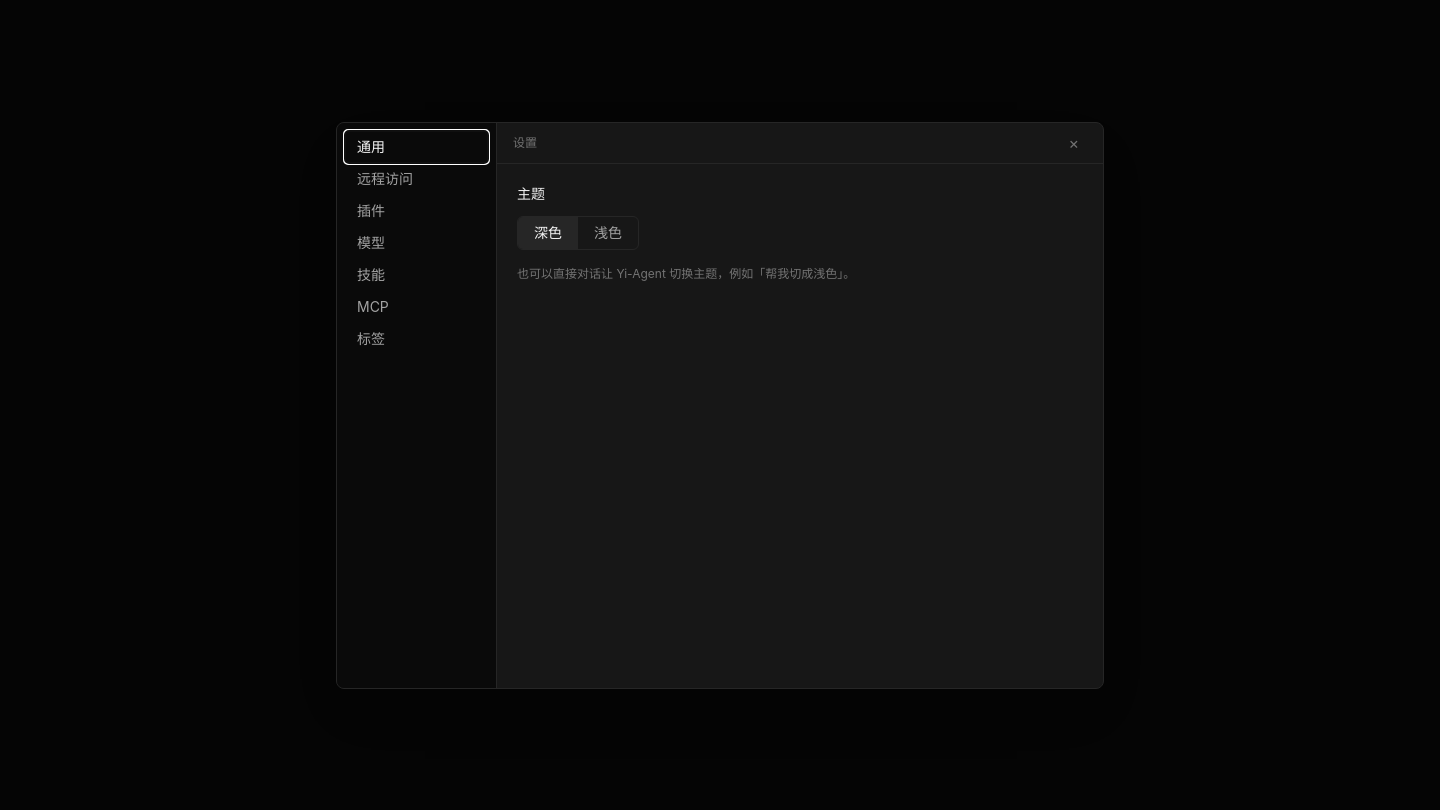
Test case: SettingsDialog › shows a 模型 tab backed by the injected modelCall
The width and height of the screenshot is (1440, 810).
Click the tab "模型". click: {"x": 416, "y": 242}
box: left=345, top=226, right=488, bottom=258
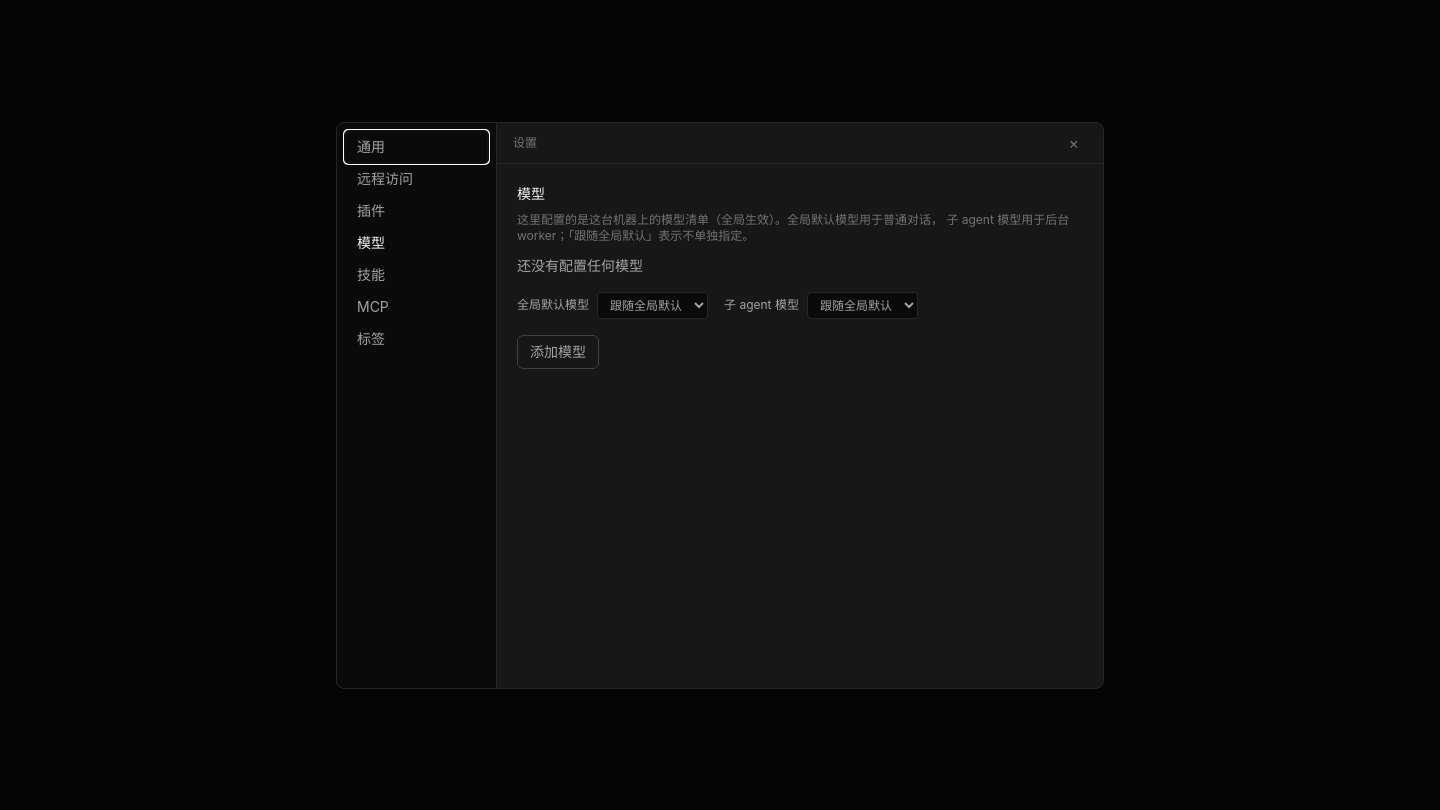
Check: the text "还没有配置任何模型" is shown, box left=517, top=256, right=643, bottom=274
